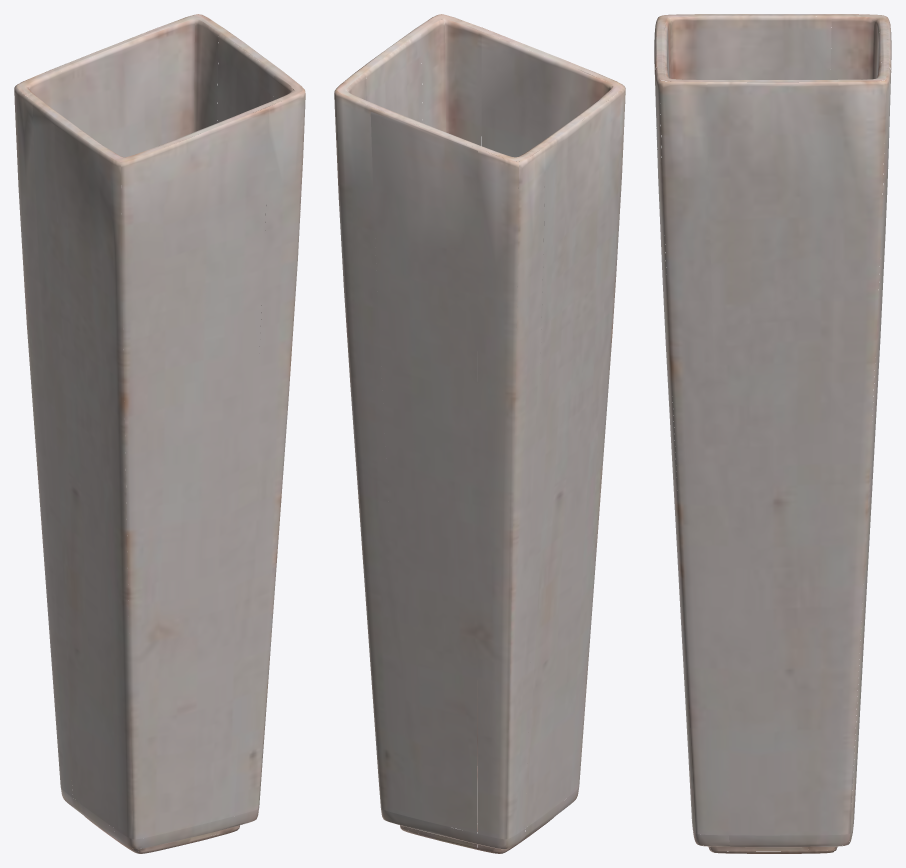
Rendered from ph_ceramic_vase_03.glb.
The picture shows the model from 3 angles, left to right: view 1: azimuth 30°, elevation 25°; view 2: azimuth 150°, elevation 25°; view 3: azimuth 270°, elevation 25°; orthographic projection. The views are drawn at different scales.
Visible parts, largest first — view 1: ceramic_vase_03; view 2: ceramic_vase_03; view 3: ceramic_vase_03.
Part boxes in pixels (x1,y1,x2,y2): ceramic_vase_03: (14,14,305,853); ceramic_vase_03: (334,14,625,853); ceramic_vase_03: (654,14,891,853).
Bounding box in the file's own units: 0.1123 × 0.4144 × 0.1123.
Materials: 1 (1 with a texture image).
